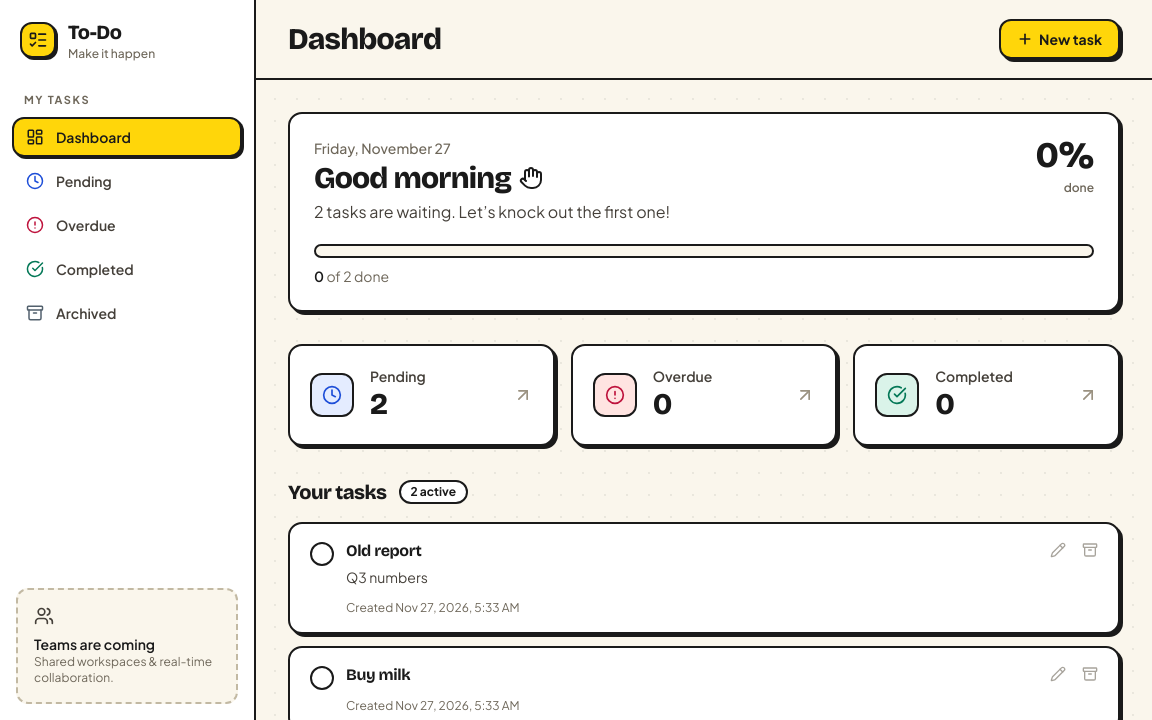
it: archiving a task › asks for confirmation, with Cancel focused so Enter cannot archive by accident
Step 1. Click the button named "Archive \"Old report\"" → x=1090, y=550, box x1=1074 y1=534 x2=1106 y2=566
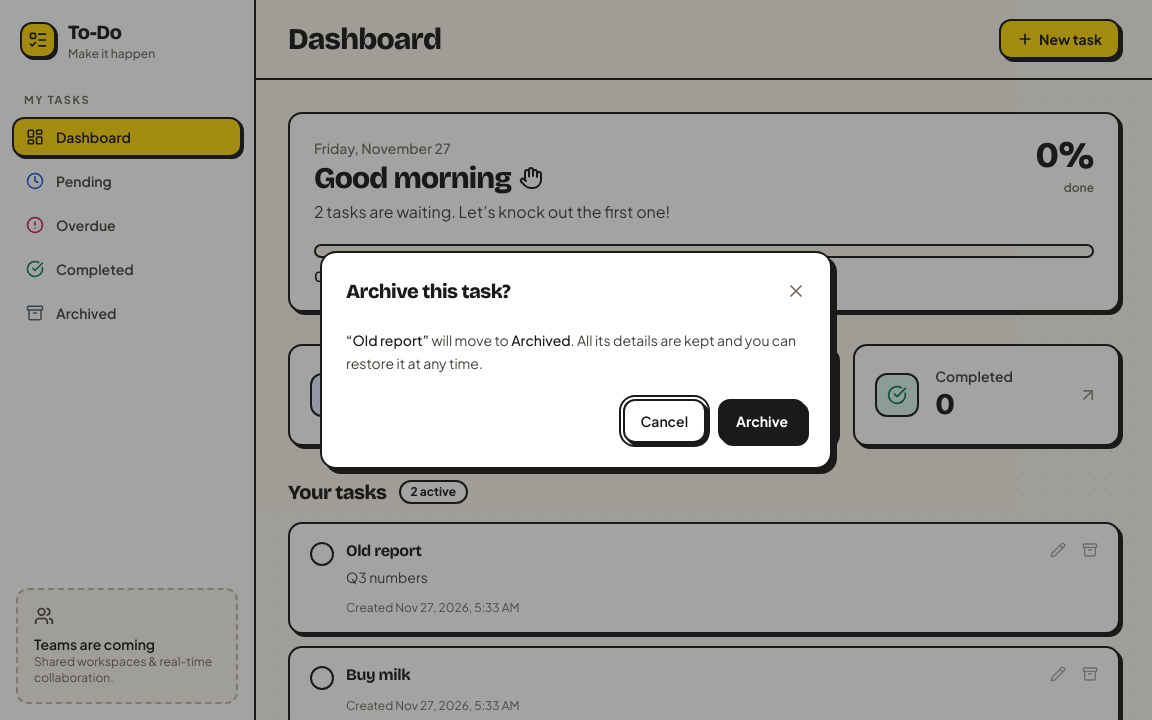
Now the text "“Old report”" is shown, box x1=346 y1=331 x2=429 y2=349
